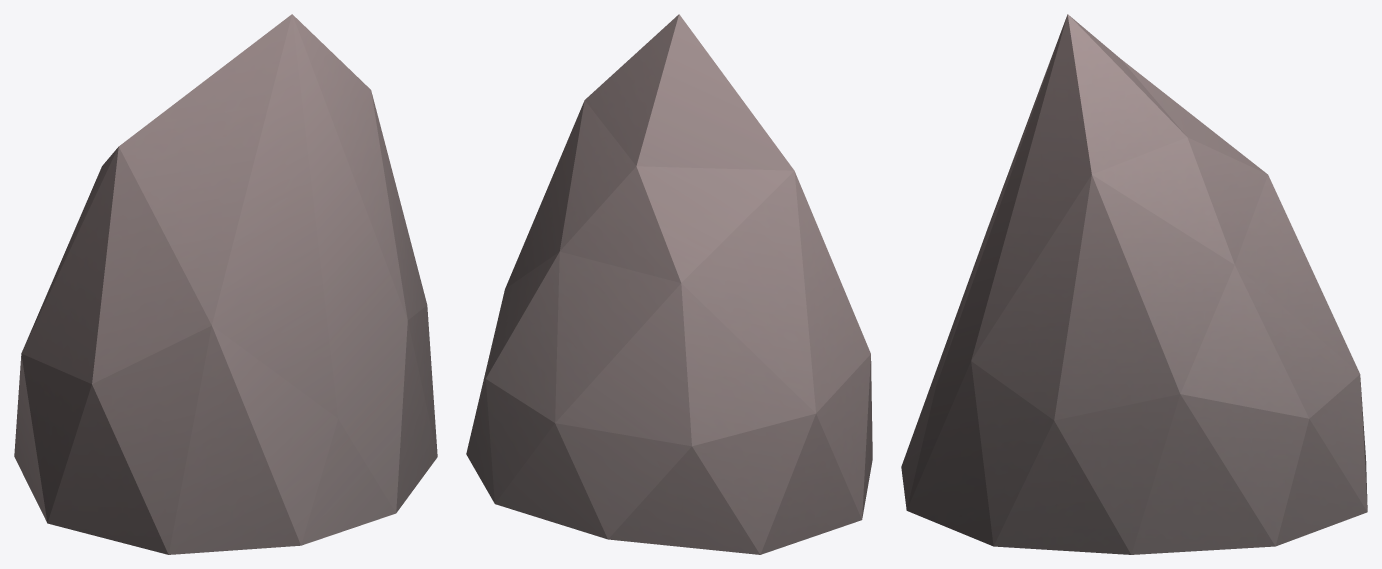
The model's file is SM_Rock01_Var1.fbx.
3 views of the same model, side by side, from view 1: azimuth 30°, elevation 25°; view 2: azimuth 150°, elevation 25°; view 3: azimuth 270°, elevation 25° (orthographic). The views are drawn at different scales.
Parts seen in each view (by area): view 1: Rock01_Var1; view 2: Rock01_Var1; view 3: Rock01_Var1.
Boxes of the visible parts, bbox=[...] form: Rock01_Var1: bbox=[14, 14, 437, 554]; Rock01_Var1: bbox=[466, 14, 872, 554]; Rock01_Var1: bbox=[901, 14, 1367, 554].
Size of the model in its own units: 374 by 456 by 381.
